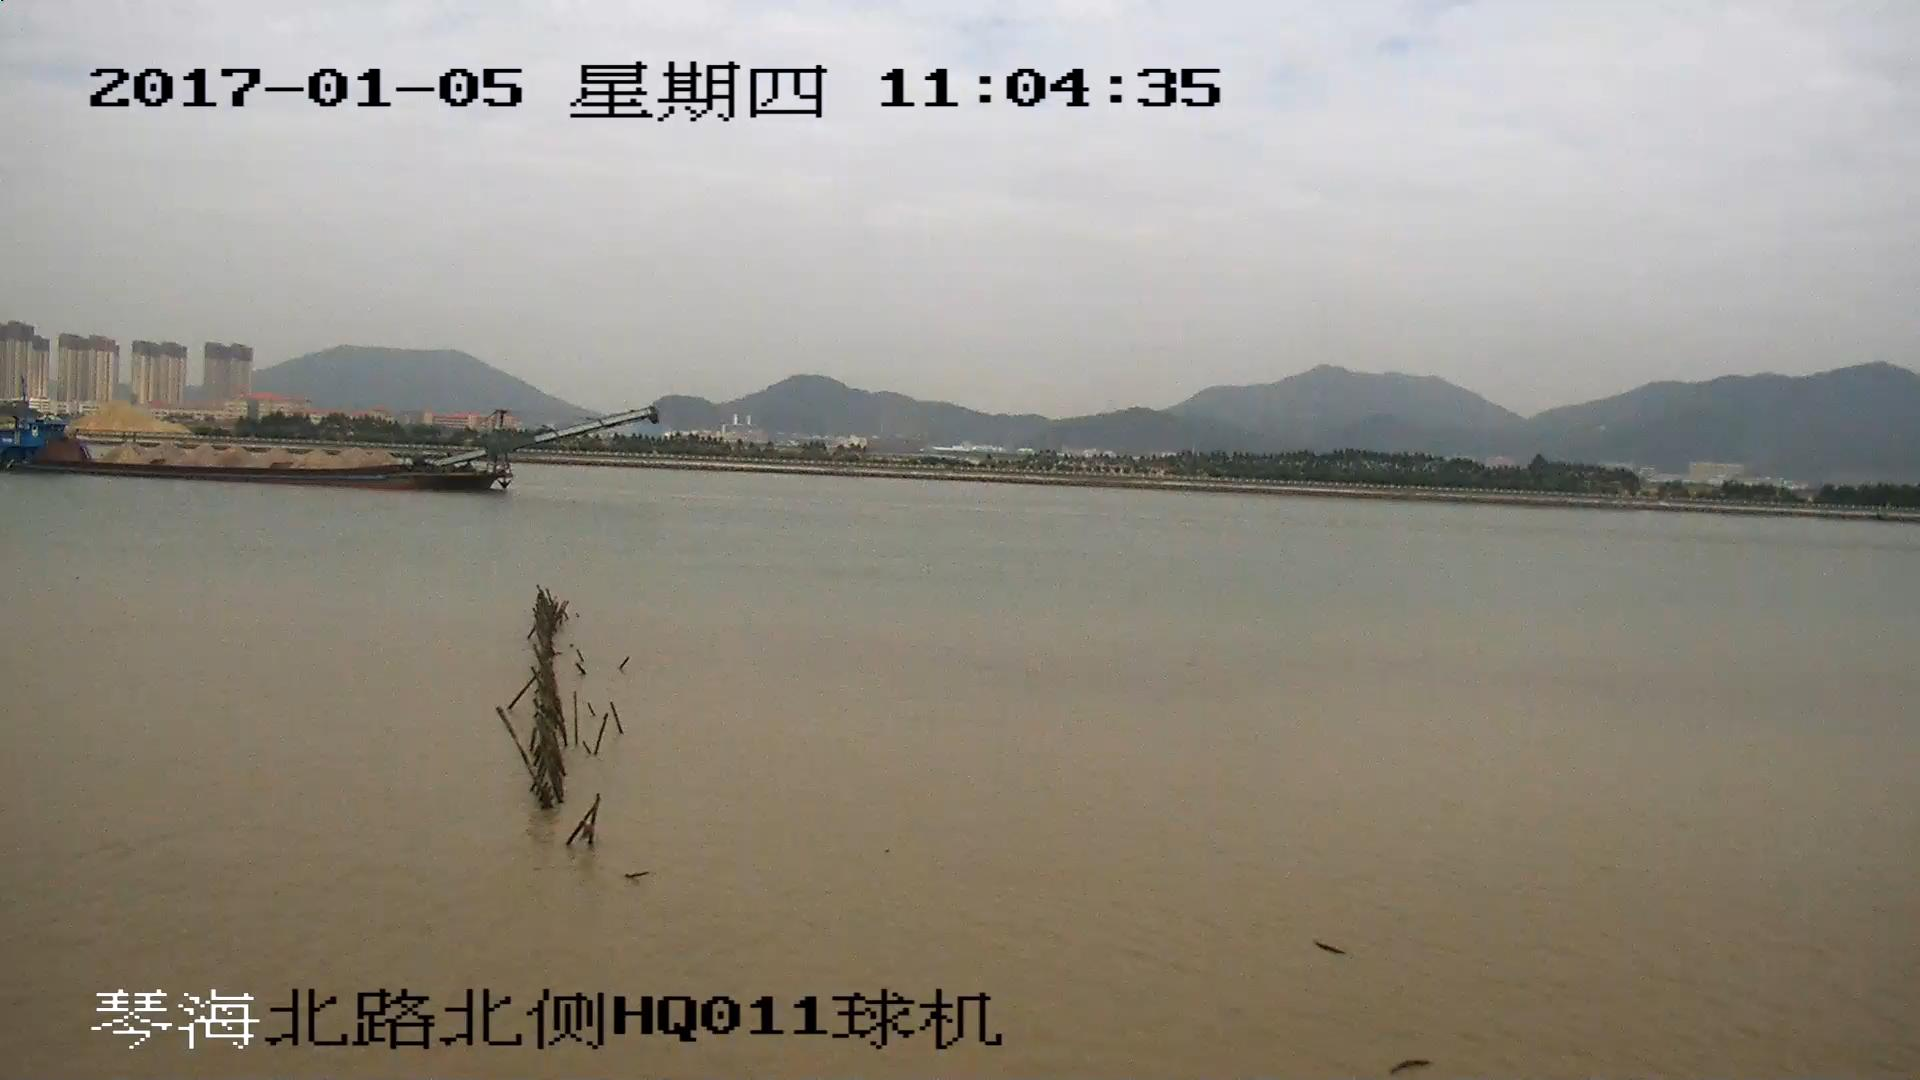ore carrier: (1, 412, 650, 494)
